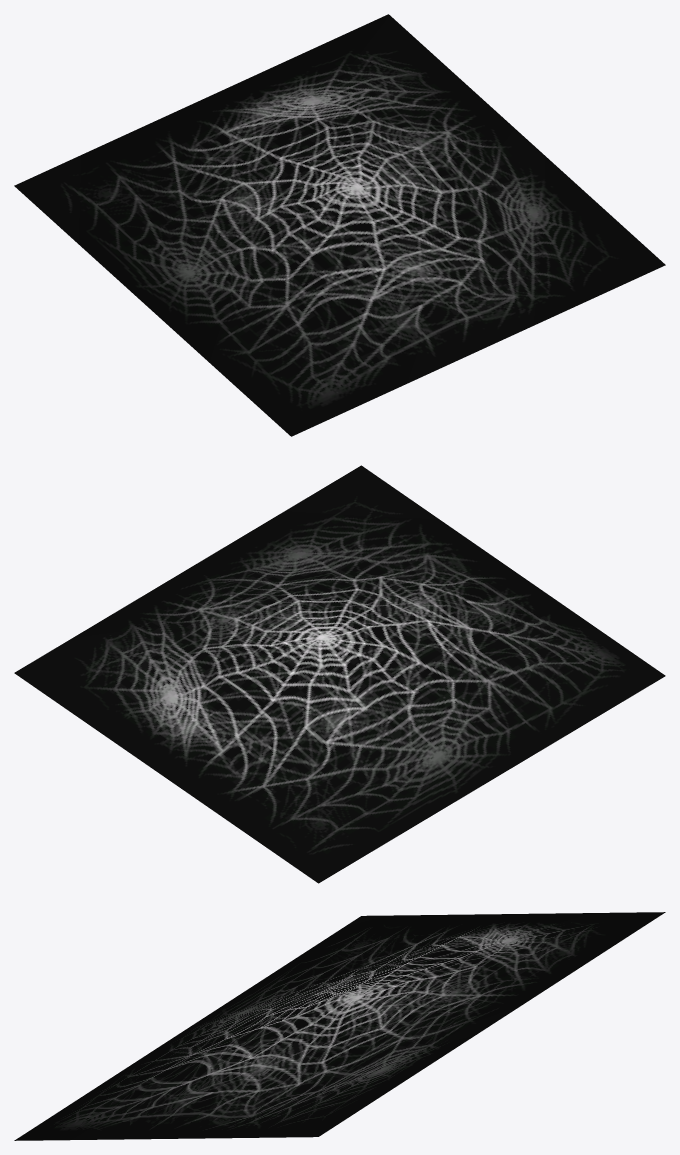
Rendered from MIRKWOOD_PLANE13.fbx.
The picture shows the model from 3 angles, top to bottom: view 1: azimuth 30°, elevation 25°; view 2: azimuth 150°, elevation 25°; view 3: azimuth 330°, elevation 25°; orthographic projection. The views are drawn at different scales.
Parts seen in each view (by area): view 1: MIRKWOOD_PLANE13; view 2: MIRKWOOD_PLANE13; view 3: MIRKWOOD_PLANE13.
Part boxes in pixels (x1,y1,x2,y2): MIRKWOOD_PLANE13: [14, 14, 665, 436]; MIRKWOOD_PLANE13: [14, 465, 665, 883]; MIRKWOOD_PLANE13: [14, 912, 665, 1140].
Size of the model in its own units: 114306 by 33889 by 179397.
Materials: 1 (1 with a texture image).
